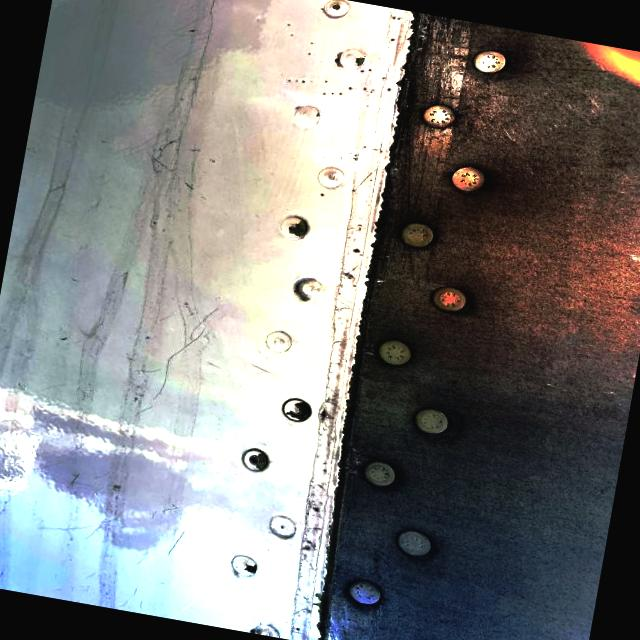crack: (150, 293, 228, 416), (127, 116, 201, 200)
